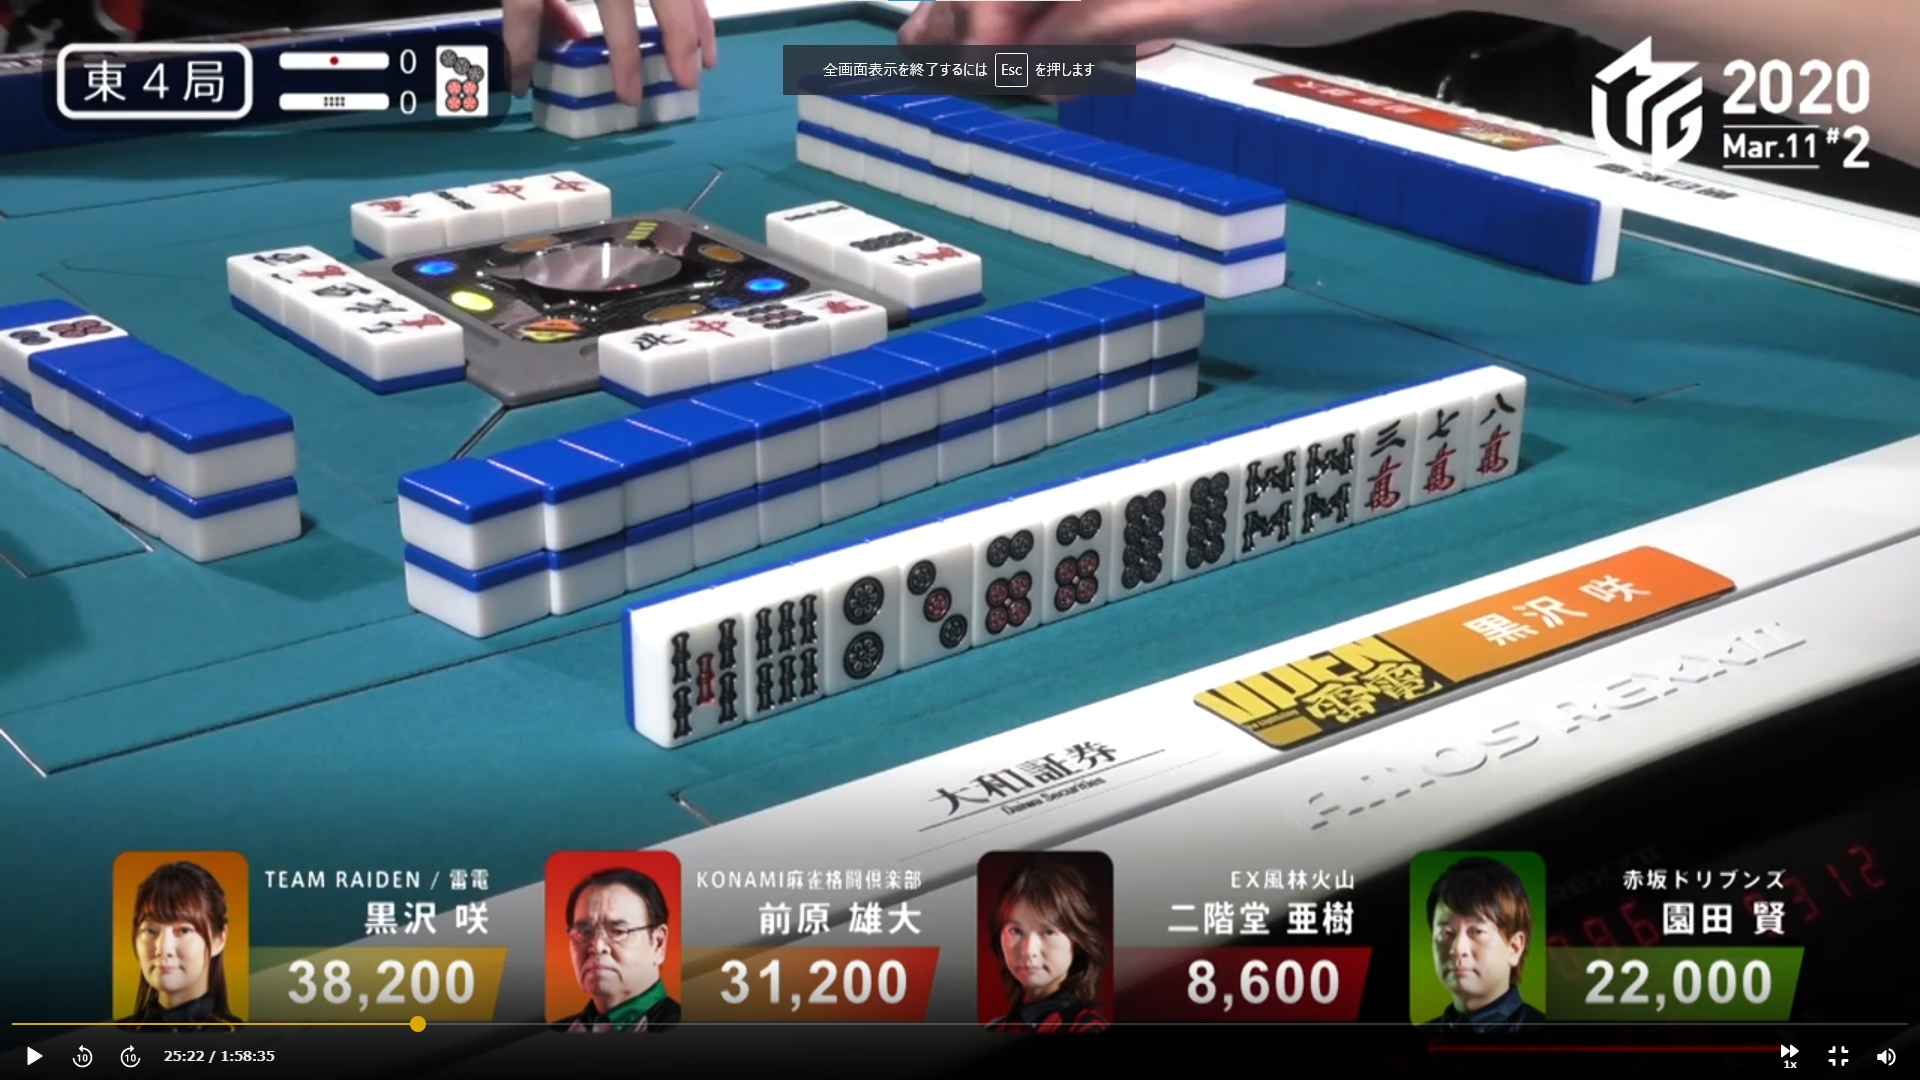2p: (831, 571, 894, 687)
3m: (1357, 407, 1411, 524)
3p: (899, 537, 973, 662)
5s: (651, 601, 741, 745)
6p: (1046, 487, 1105, 616), (978, 516, 1040, 637)
6s: (745, 587, 824, 712)
7m: (1415, 394, 1464, 498)
8m: (1464, 371, 1522, 487)
8p: (1174, 462, 1237, 578), (1109, 471, 1167, 591)
8s: (1300, 425, 1360, 531), (1237, 440, 1292, 553)
hand_ton_4: (46, 36, 264, 117)
round_0: (270, 78, 423, 116)
team_raiden: (1188, 632, 1458, 754)
